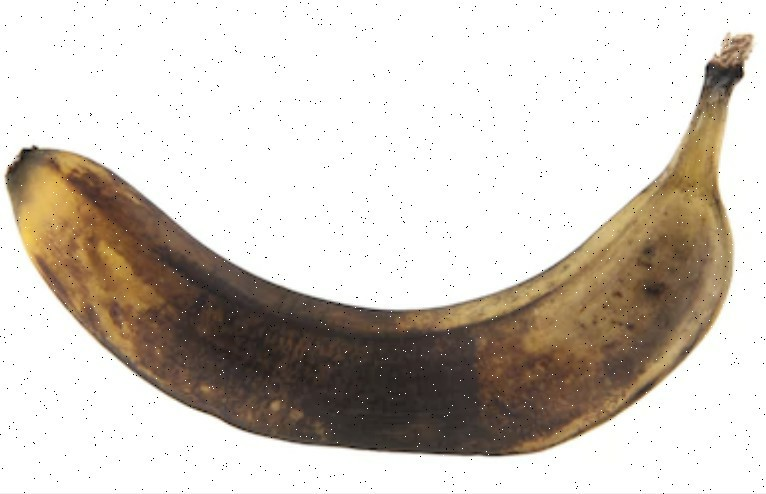rotten_banana: (7, 61, 736, 456)
